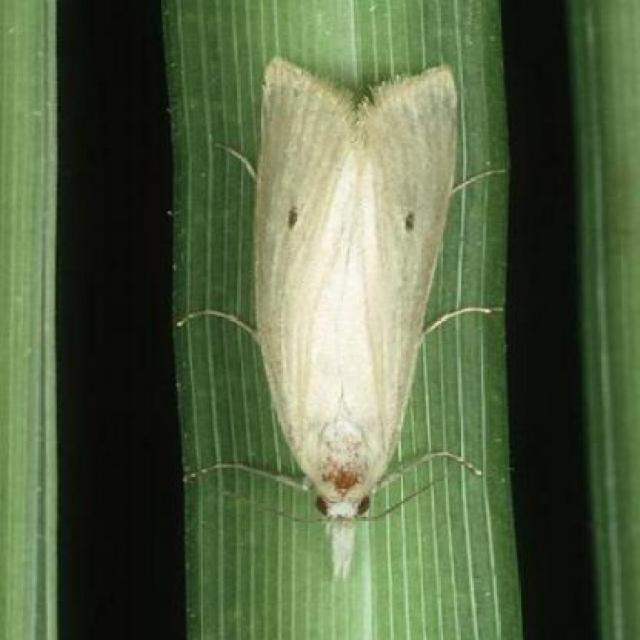stem-borer: (225, 51, 466, 584)
